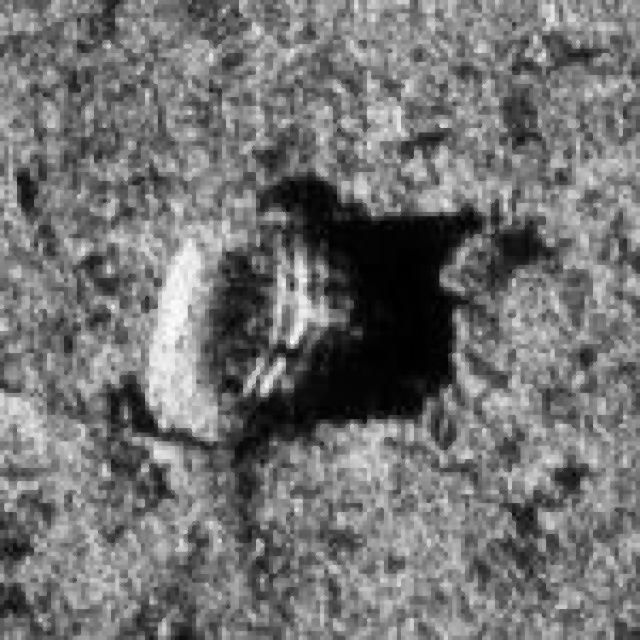Ship: (138, 178, 381, 458)
